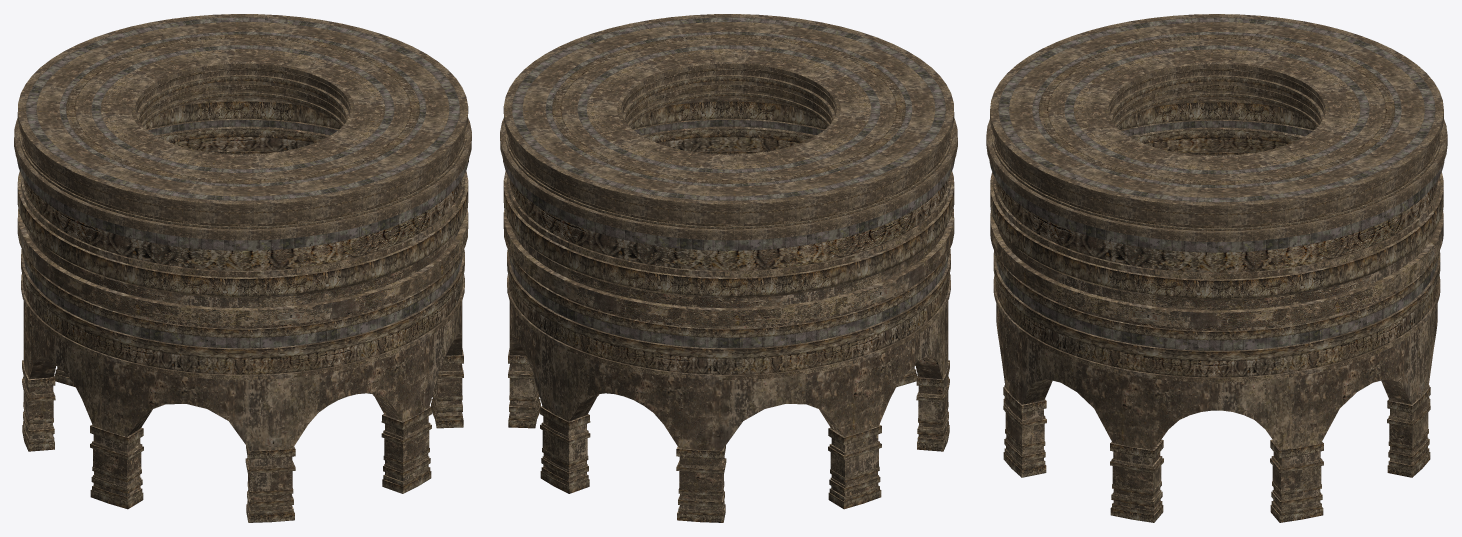
Rendered from materials_5_building_14.fbx.
3 renders of one model, left to right at view 1: azimuth 30°, elevation 25°; view 2: azimuth 150°, elevation 25°; view 3: azimuth 270°, elevation 25°, orthographic.
Parts seen in each view (by area): view 1: materials_5_building_14; view 2: materials_5_building_14; view 3: materials_5_building_14.
Part boxes in pixels (<box>): materials_5_building_14: <box>14,14,471,522</box>; materials_5_building_14: <box>500,14,957,522</box>; materials_5_building_14: <box>986,14,1447,522</box>.
Size of the model in its own units: 686 by 530 by 686.
